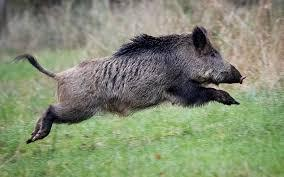wildboar: (4, 23, 249, 144)
